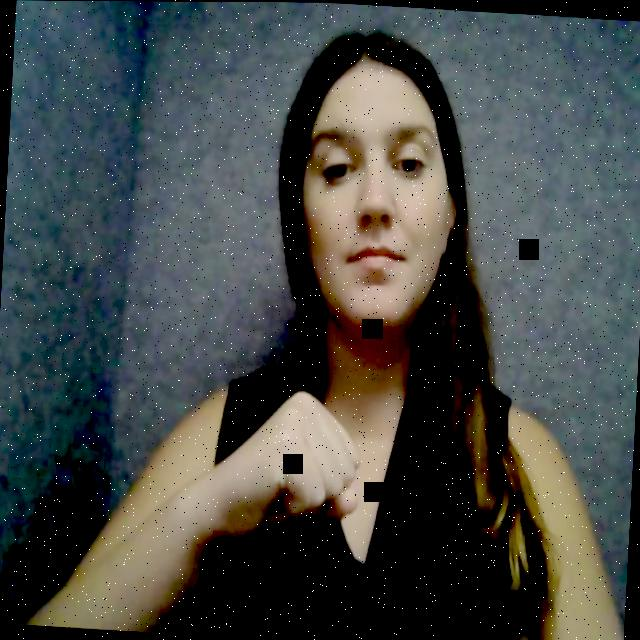Rock: (195, 373, 382, 567)
